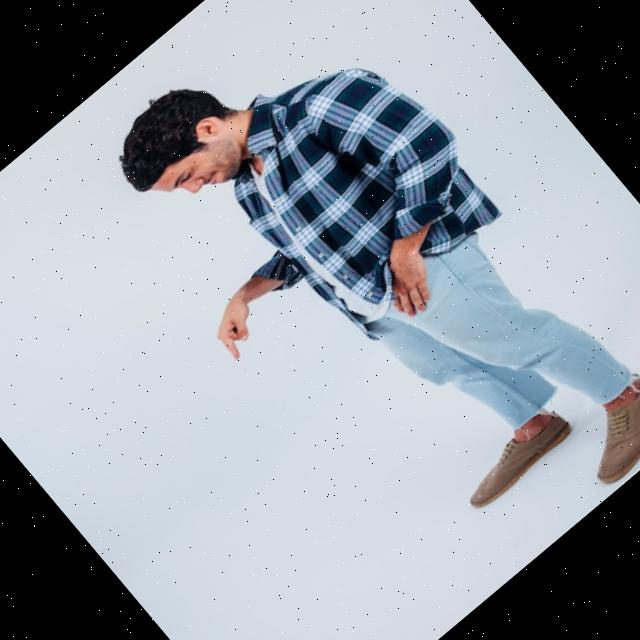Person: (74, 0, 640, 616)
